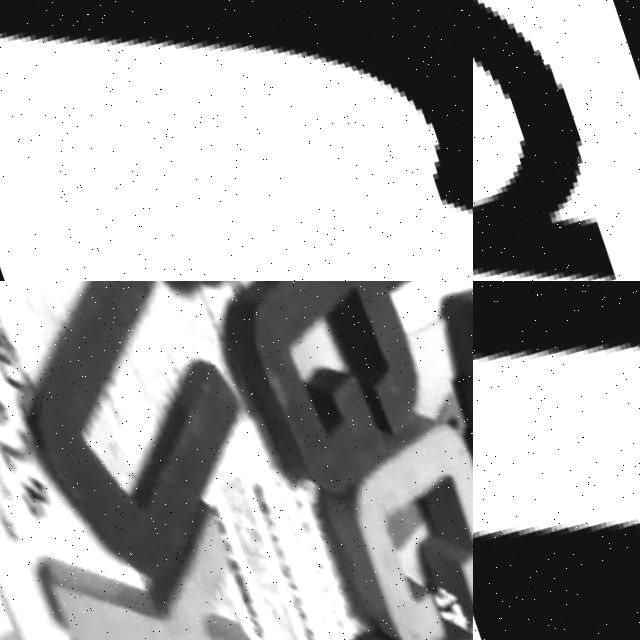C: (308, 406, 473, 640)
G: (473, 0, 640, 281), (209, 281, 439, 468)
N: (473, 281, 640, 640)
R: (0, 0, 473, 281)
U: (0, 281, 291, 598)
X: (34, 498, 301, 640)
